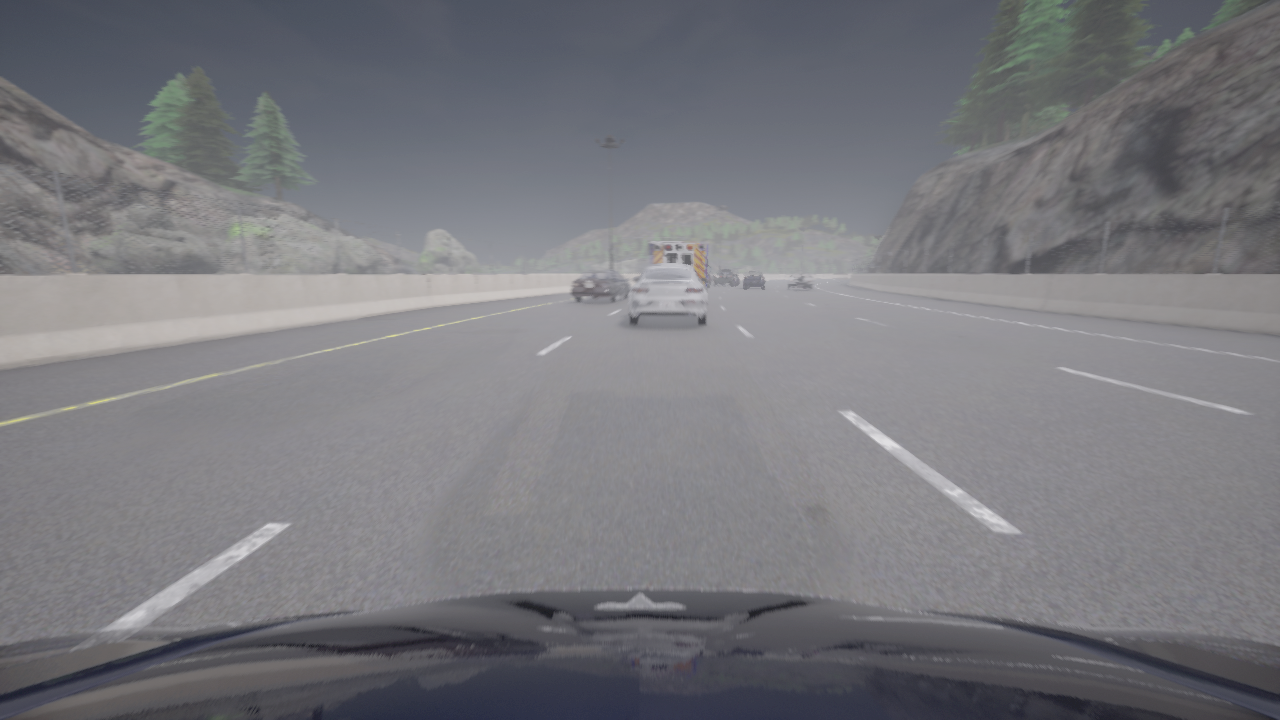cyclist: (0, 588, 1279, 719), (628, 264, 707, 325), (650, 241, 711, 295), (569, 269, 630, 302), (787, 273, 813, 289), (743, 271, 766, 288), (713, 270, 738, 285), (708, 272, 714, 283)
